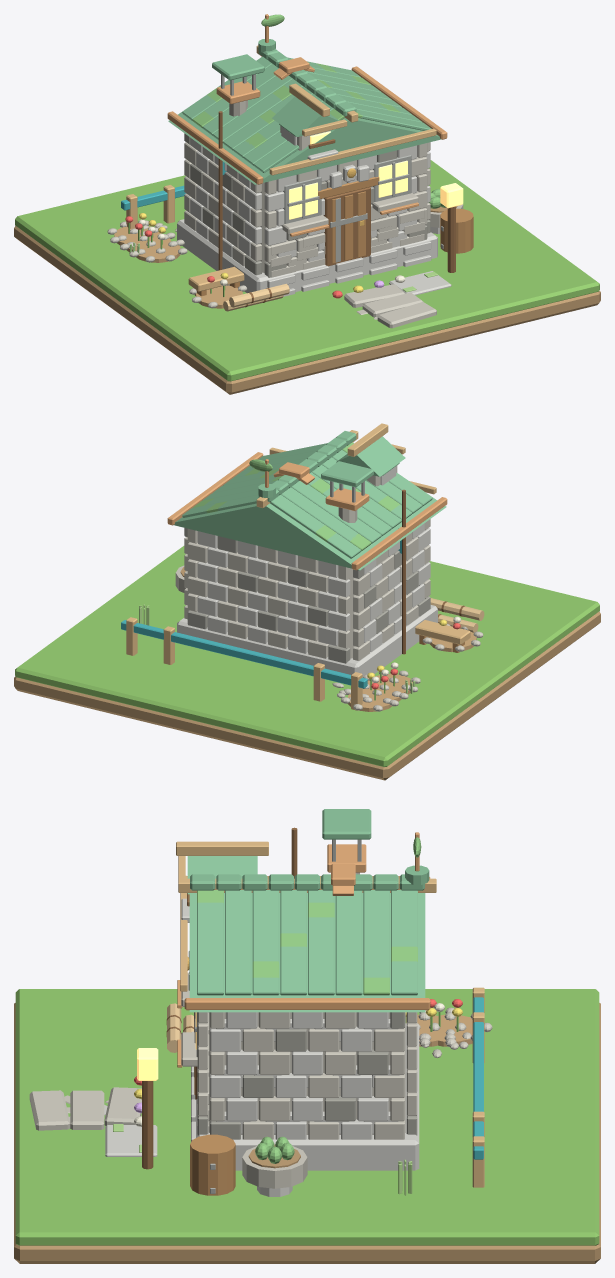
Rendered from stone_house_l01_active.glb.
3 renders of one model, top to bottom at view 1: azimuth 30°, elevation 25°; view 2: azimuth 150°, elevation 25°; view 3: azimuth 270°, elevation 25°, orthographic. The views are drawn at different scales.
Parts seen in each view (by area): view 1: stone_house_component_pilot_grass_tile, stone_house_component_pilot_earth_tile, pilot_stone_house_l01_roof_gable_roof, pilot_stone_house_l01_spec_stone_block_medium_medium_foundat, pilot_stone_house_l01_stone_door, pilot_stone_house_l01_roof_roof_front_trim, pilot_stone_house_l01_roof_dormer_gable_roof, pilot_stone_house_l01_roof_eave_-1, pilot_stone_house_l01_yard_barrel_barrel_body, stone_house_component_pilot_path_stone_03, pilot_stone_house_l01_decor_chimney_crown_cap, pilot_stone_house_l01_roof_eave_+1 (+19 smaller); view 2: stone_house_component_pilot_grass_tile, stone_house_component_pilot_earth_tile, pilot_stone_house_l01_roof_gable_roof, pilot_stone_house_l01_spec_stone_block_medium_medium_foundat, pilot_stone_house_l01_yard_fence_rail, pilot_stone_house_l01_roof_dormer_gable_roof, pilot_stone_house_l01_roof_eave_-1, pilot_stone_house_l01_decor_chimney_crown_cap, pilot_stone_house_l01_yard_bench_seat, pilot_stone_house_l01_roof_eave_+1, pilot_stone_house_l01_decor_chimney_crown_ring, pilot_stone_house_l01_yard_marker_flag_pole (+1 smaller); view 3: stone_house_component_pilot_grass_tile, stone_house_component_pilot_earth_tile, pilot_stone_house_l01_spec_stone_block_medium_medium_foundat, pilot_stone_house_l01_roof_gable_roof, pilot_stone_house_l01_roof_eave_+1, pilot_stone_house_l01_yard_barrel_barrel_body, pilot_stone_house_l01_decor_seed_planter_bowl, pilot_stone_house_l01_decor_chimney_crown_cap, pilot_stone_house_l01_yard_fence_rail, stone_house_component_pilot_path_stone_03, pilot_stone_house_l01_roof_dormer_roof_ridge, pilot_stone_house_l01_roof_dormer_gable_roof (+31 smaller).
Part boxes in pixels (left/top/right/bottom): stone_house_component_pilot_grass_tile: left=15, top=160, right=599, bottom=381; stone_house_component_pilot_earth_tile: left=14, top=225, right=600, bottom=394; pilot_stone_house_l01_roof_gable_roof: left=168, top=57, right=441, bottom=184; pilot_stone_house_l01_spec_stone_block_medium_medium_foundat: left=177, top=219, right=437, bottom=292; pilot_stone_house_l01_stone_door: left=324, top=187, right=370, bottom=266; pilot_stone_house_l01_roof_roof_front_trim: left=269, top=128, right=436, bottom=175; pilot_stone_house_l01_roof_dormer_gable_roof: left=272, top=96, right=339, bottom=136; pilot_stone_house_l01_roof_eave_-1: left=167, top=111, right=263, bottom=184; pilot_stone_house_l01_yard_barrel_barrel_body: left=440, top=208, right=473, bottom=253; stone_house_component_pilot_path_stone_03: left=377, top=302, right=436, bottom=328; pilot_stone_house_l01_decor_chimney_crown_cap: left=212, top=54, right=264, bottom=80; pilot_stone_house_l01_roof_eave_+1: left=351, top=66, right=447, bottom=139; stone_house_component_pilot_grass_tile: left=15, top=546, right=599, bottom=766; stone_house_component_pilot_earth_tile: left=14, top=611, right=600, bottom=780; pilot_stone_house_l01_roof_gable_roof: left=174, top=474, right=446, bottom=570; pilot_stone_house_l01_spec_stone_block_medium_medium_foundat: left=177, top=605, right=437, bottom=677; pilot_stone_house_l01_yard_fence_rail: left=121, top=620, right=367, bottom=688; pilot_stone_house_l01_roof_dormer_gable_roof: left=336, top=436, right=405, bottom=476; pilot_stone_house_l01_roof_eave_-1: left=351, top=497, right=447, bottom=570; pilot_stone_house_l01_decor_chimney_crown_cap: left=321, top=461, right=373, bottom=487; pilot_stone_house_l01_yard_bench_seat: left=415, top=620, right=470, bottom=644; pilot_stone_house_l01_roof_eave_+1: left=167, top=452, right=263, bottom=525; pilot_stone_house_l01_decor_chimney_crown_ring: left=325, top=488, right=369, bottom=510; pilot_stone_house_l01_yard_marker_flag_pole: left=402, top=489, right=405, bottom=654; stone_house_component_pilot_grass_tile: left=15, top=989, right=599, bottom=1245; stone_house_component_pilot_earth_tile: left=14, top=1003, right=600, bottom=1263; pilot_stone_house_l01_spec_stone_block_medium_medium_foundat: left=195, top=1023, right=419, bottom=1170; pilot_stone_house_l01_roof_gable_roof: left=189, top=893, right=425, bottom=1012; pilot_stone_house_l01_roof_eave_+1: left=184, top=998, right=430, bottom=1010; pilot_stone_house_l01_yard_barrel_barrel_body: left=190, top=1134, right=235, bottom=1195; pilot_stone_house_l01_decor_seed_planter_bowl: left=242, top=1143, right=307, bottom=1188; pilot_stone_house_l01_decor_chimney_crown_cap: left=322, top=809, right=371, bottom=839; pilot_stone_house_l01_yard_fence_rail: left=473, top=997, right=483, bottom=1159; stone_house_component_pilot_path_stone_03: left=29, top=1090, right=70, bottom=1130; pilot_stone_house_l01_roof_dormer_roof_ridge: left=176, top=841, right=268, bottom=855; pilot_stone_house_l01_roof_dormer_gable_roof: left=187, top=856, right=257, bottom=894.
Size of the model in its own units: 3.6 by 2.1 by 3.6.
